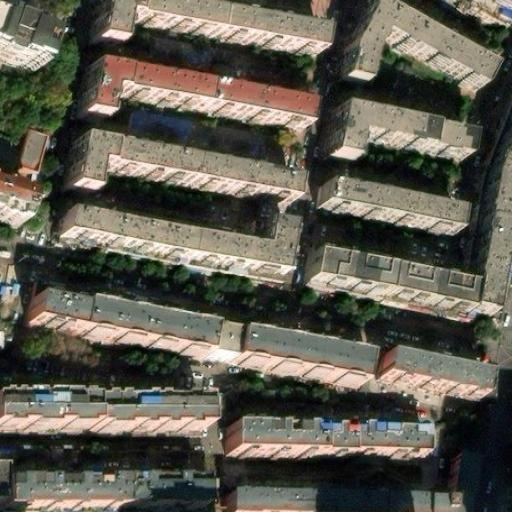building: (64, 207, 291, 271), (86, 58, 314, 121), (75, 135, 301, 188), (23, 286, 207, 350), (349, 0, 501, 75), (309, 250, 477, 307), (101, 0, 329, 39), (334, 103, 480, 160), (0, 402, 192, 440), (226, 323, 362, 376), (327, 178, 468, 226), (472, 155, 512, 312), (220, 432, 422, 463), (3, 488, 196, 512), (374, 351, 480, 393), (221, 499, 470, 512), (0, 11, 56, 65), (125, 105, 195, 143), (444, 462, 470, 509), (16, 134, 43, 177), (202, 320, 231, 352)
